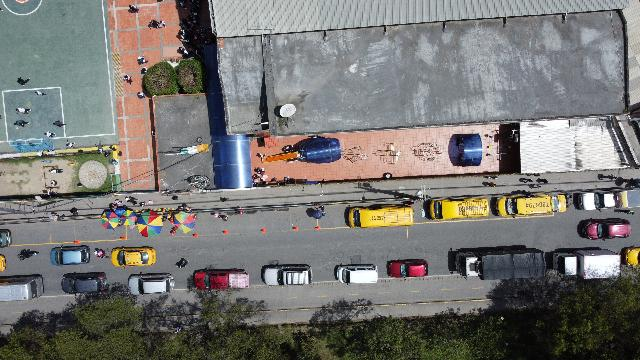Vehiculo: (349, 204, 414, 228), (495, 195, 566, 216), (430, 198, 489, 220), (194, 269, 250, 290), (578, 218, 630, 240), (0, 275, 44, 301), (261, 264, 312, 286), (128, 272, 175, 295), (111, 246, 156, 268), (62, 272, 106, 294), (336, 264, 378, 284), (50, 245, 90, 265), (388, 259, 428, 278), (578, 192, 615, 210), (625, 248, 640, 266)
